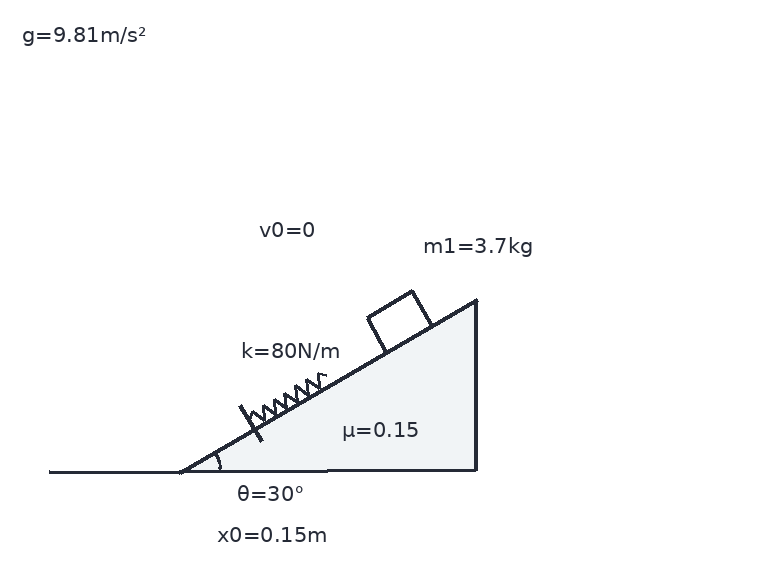block: (365, 289, 434, 354)
ramp: (178, 298, 478, 473)
spring: (248, 371, 329, 422)
